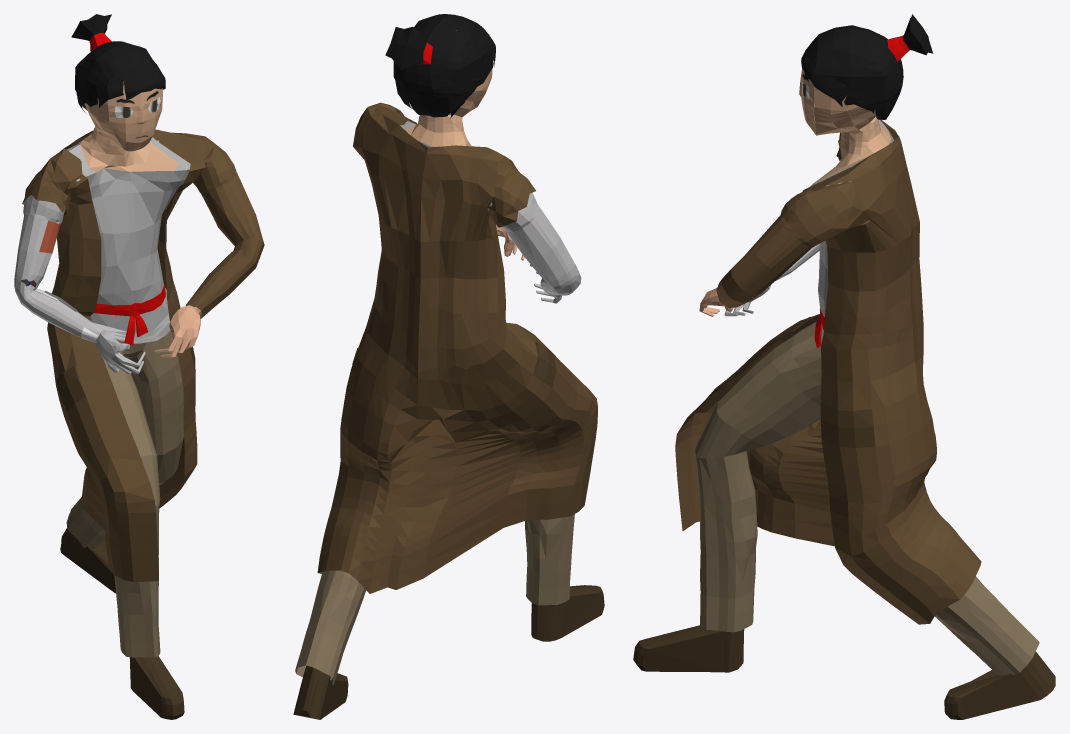
File: One_Bash_000002.obj
3 renders of one model, left to right at view 1: azimuth 30°, elevation 25°; view 2: azimuth 150°, elevation 25°; view 3: azimuth 270°, elevation 25°, orthographic. The views are drawn at different scales.
Parts seen in each view (by area): view 1: Hair_Cube.004; view 2: Hair_Cube.004; view 3: Hair_Cube.004.
Boxes of the visible parts, x1,y1,x2,y2 form: Hair_Cube.004: (14,14,264,719); Hair_Cube.004: (293,14,604,719); Hair_Cube.004: (633,14,1055,719).
Size of the model in its own units: 1.32 by 3.68 by 2.1.
